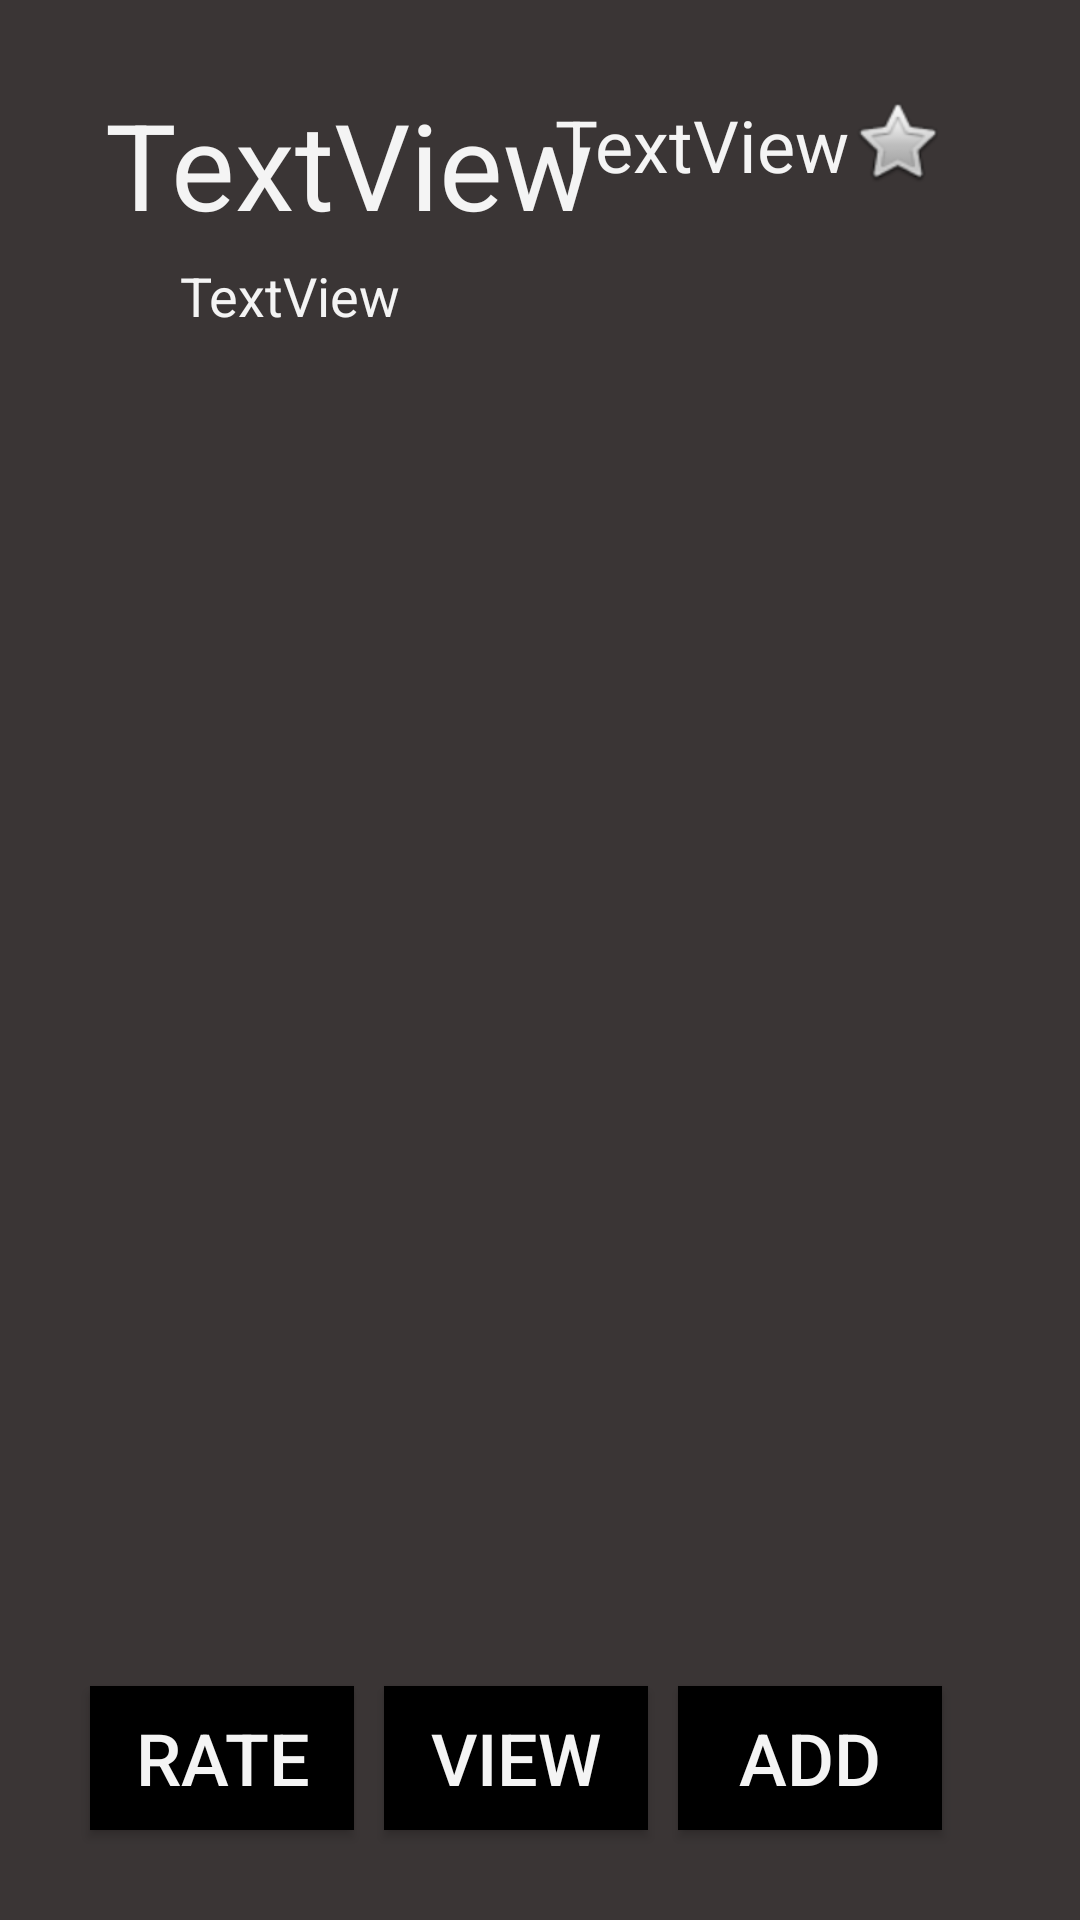

Icon bounding boxes for this 1080 x 1920 phone screenshot, format (x1, y1, x2, y2):
star: (860, 104, 936, 177)
